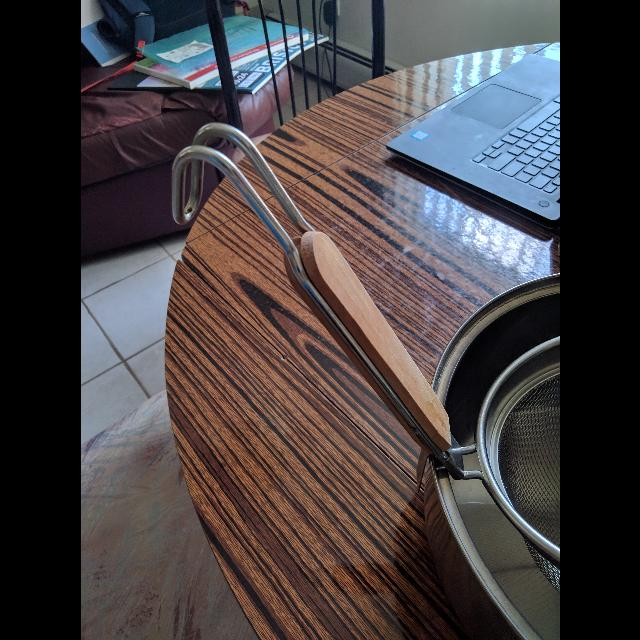Handle: (169, 111, 482, 499)
Strainer: (474, 334, 560, 576)
